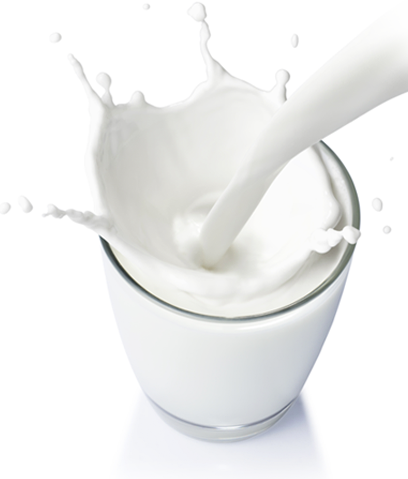glass of milk: (134, 174, 304, 433)
